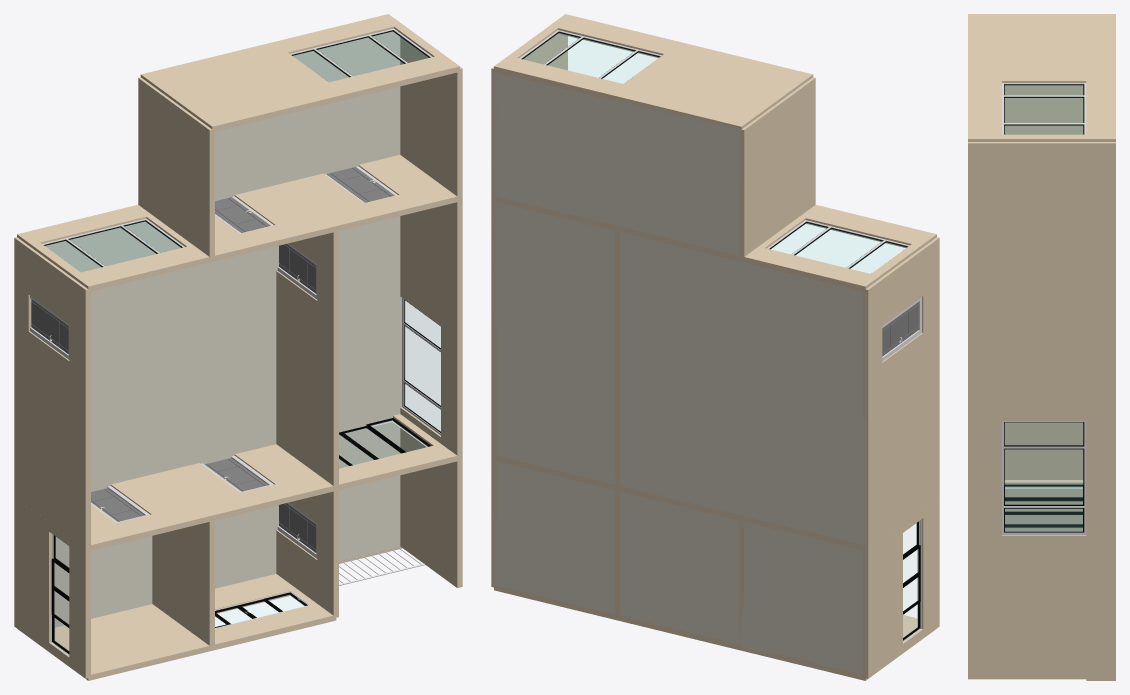
Rendered from 2_elaina_2_ceilingless.gltf.
The picture shows the model from 3 angles, left to right: view 1: azimuth 30°, elevation 25°; view 2: azimuth 150°, elevation 25°; view 3: azimuth 270°, elevation 25°; orthographic projection. The views are drawn at different scales.
Visible parts, largest first — view 1: floor (×11), SIP (×13), wall (×9), Glass (×3), Door (×7), WindowCasement; view 2: floor (×11), SIP (×14), wall (×8), Glass (×2), Door; view 3: wall (×6), SIP (×4), Glass (×2), WindowFrame (×2), WindowSeal (×2), WindowCasement.
Boxes of the visible parts, x1,y1,x2,y2 form: floor (×11): [45, 31, 401, 627]; SIP (×13): [14, 14, 462, 678]; wall (×9): [14, 37, 462, 680]; Glass (×3): [46, 31, 440, 430]; Door (×7): [31, 167, 394, 552]; WindowCasement: [339, 418, 430, 465]; floor (×11): [494, 72, 865, 674]; SIP (×14): [491, 14, 939, 678]; wall (×8): [491, 33, 939, 680]; Glass (×2): [524, 33, 906, 273]; Door: [882, 302, 918, 356]; wall (×6): [968, 14, 1115, 679]; SIP (×4): [968, 76, 1115, 545]; Glass (×2): [1005, 85, 1082, 531]; WindowFrame (×2): [1002, 83, 1086, 534]; WindowSeal (×2): [1004, 84, 1084, 532]; WindowCasement: [1004, 484, 1083, 531].
Bounding box in the file's own units: 10.65 × 14.15 × 3.5.
